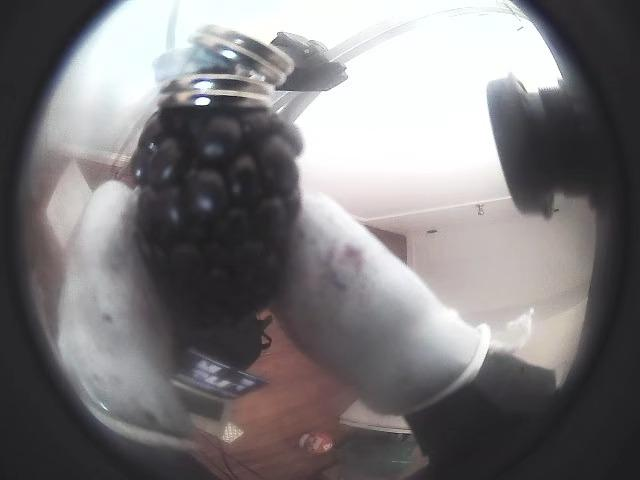berry: (132, 109, 301, 326)
gripper: (274, 193, 488, 414), (58, 181, 191, 447)
lense: (0, 0, 208, 479), (439, 0, 639, 479)
